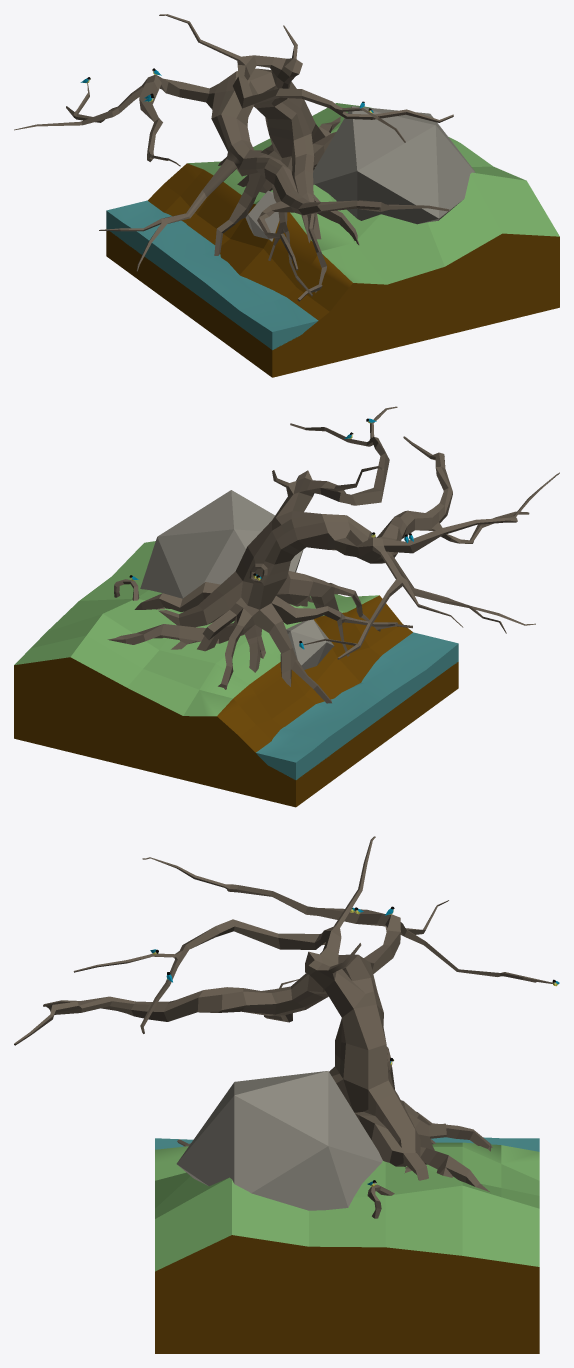
Rendered from chickadee_tree.glb.
3 renders of one model, top to bottom at view 1: azimuth 30°, elevation 25°; view 2: azimuth 150°, elevation 25°; view 3: azimuth 270°, elevation 25°, orthographic. The views are drawn at different scales.
Parts seen in each view (by area): view 1: ground, tree5, rock1, water1, rock2; view 2: ground, tree5, water1, rock1, rock2; view 3: ground, tree5, rock1, water1.
Part boxes in pixels (<box>): ground: <box>106,103,559,377</box>; tree5: <box>14,14,453,301</box>; rock1: <box>313,106,475,224</box>; water1: <box>106,200,318,350</box>; rock2: <box>245,190,279,241</box>; ground: <box>14,541,458,807</box>; tree5: <box>107,406,559,703</box>; water1: <box>256,632,458,779</box>; rock1: <box>140,490,303,598</box>; rock2: <box>286,619,334,669</box>; ground: <box>155,1142,539,1353</box>; tree5: <box>14,836,552,1218</box>; rock1: <box>176,1071,382,1210</box>; water1: <box>155,1137,539,1151</box>.
Bounding box in the file's own units: 0.177 × 0.1203 × 0.1724.
